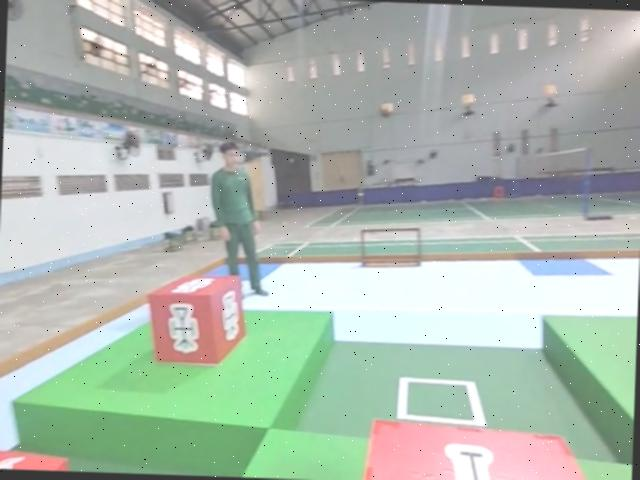R2 Real: (146, 272, 254, 370)
